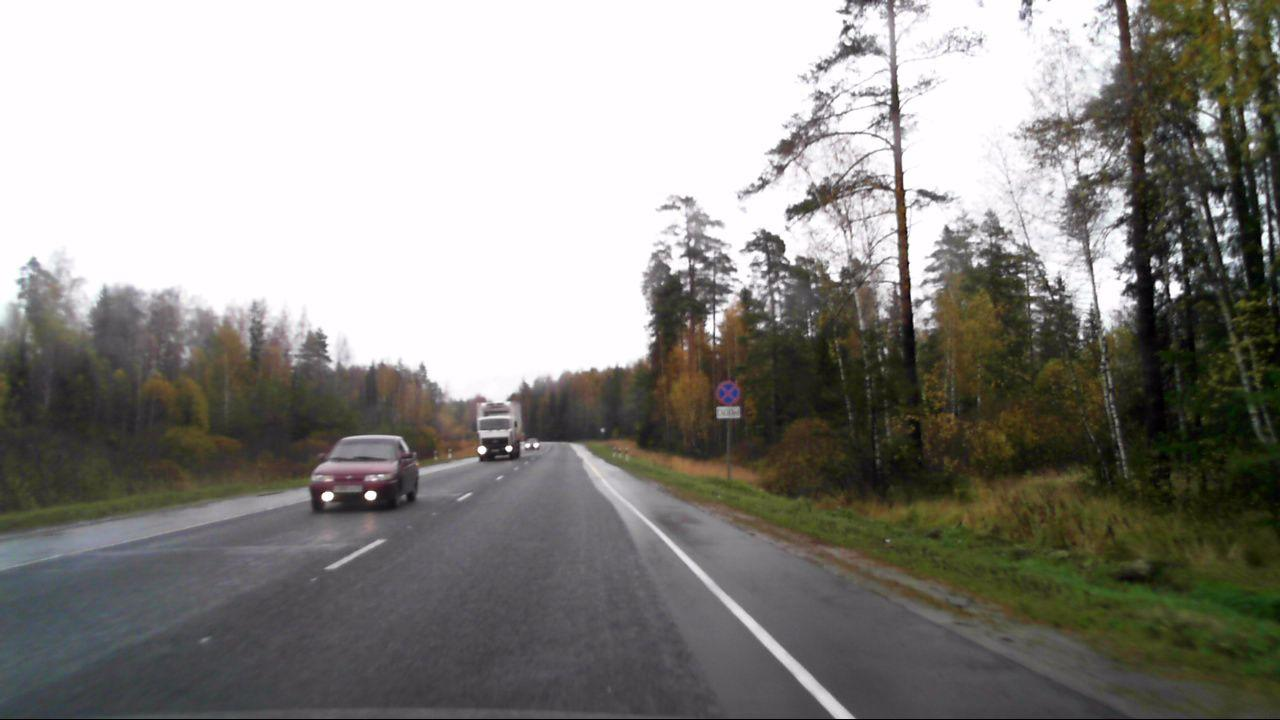road_sign: (715, 380, 742, 405)
